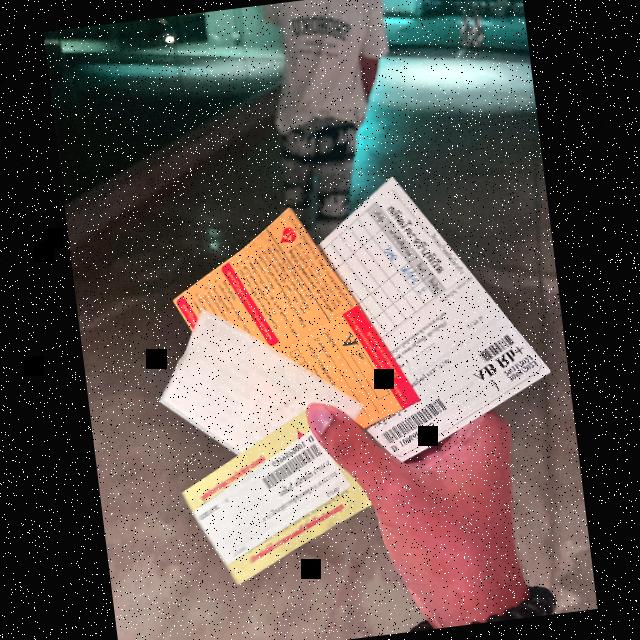scrap_paper: (290, 154, 570, 475), (154, 196, 414, 461), (168, 400, 406, 592), (147, 296, 366, 478)
